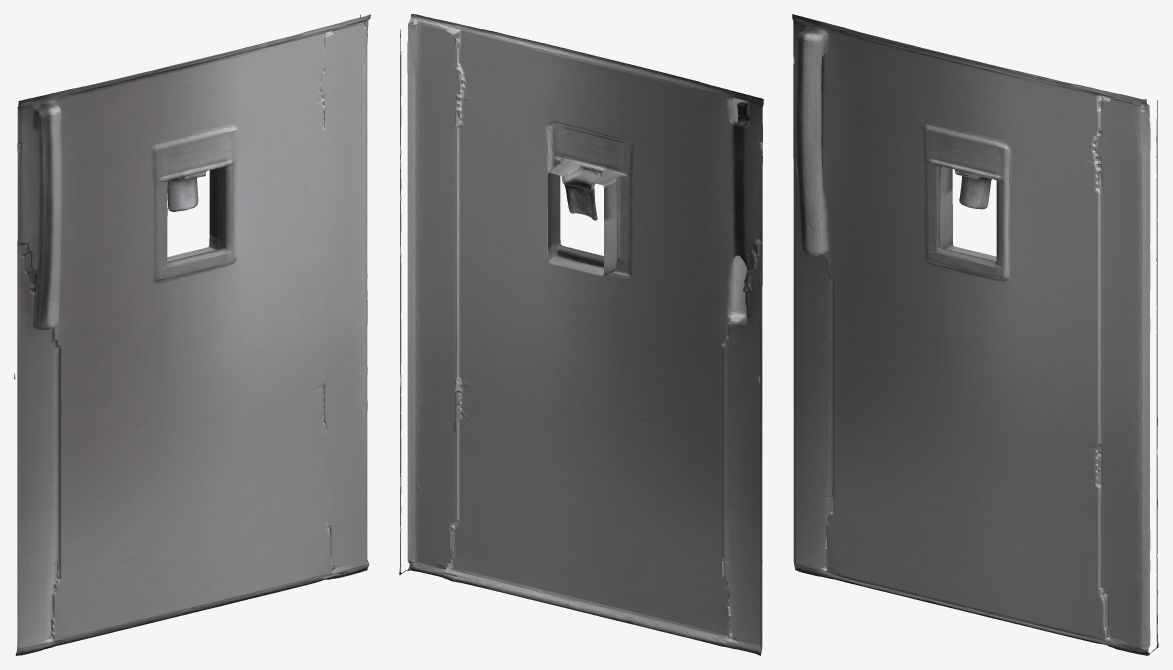
The model's file is door_lower.glb.
The picture shows the model from 3 angles, left to right: view 1: azimuth 30°, elevation 25°; view 2: azimuth 150°, elevation 25°; view 3: azimuth 330°, elevation 25°; orthographic projection.
Parts seen in each view (by area): view 1: source_surface_0; view 2: source_surface_0; view 3: source_surface_0.
Boxes of the visible parts, <box> form: source_surface_0: <box>14,14,370,655</box>; source_surface_0: <box>399,14,763,655</box>; source_surface_0: <box>792,14,1158,655</box>.
Bounding box in the file's own units: 1.71 × 2.58 × 0.2096.
1 material, 1 textured.
